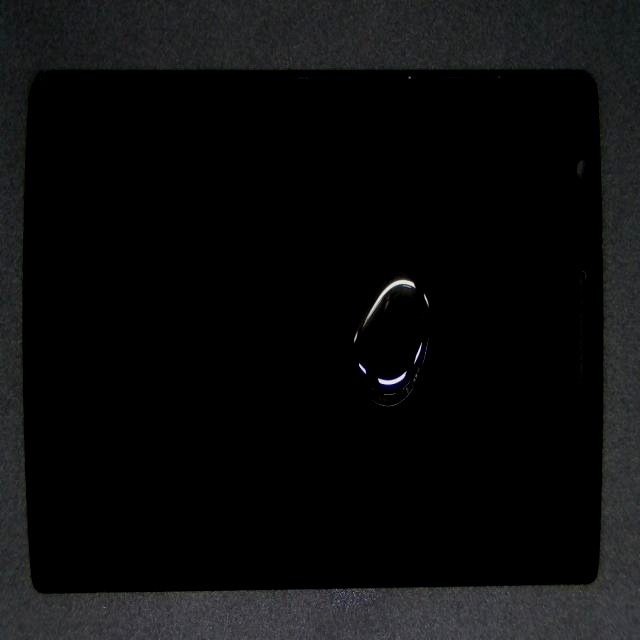oil: (229, 138, 617, 399)
